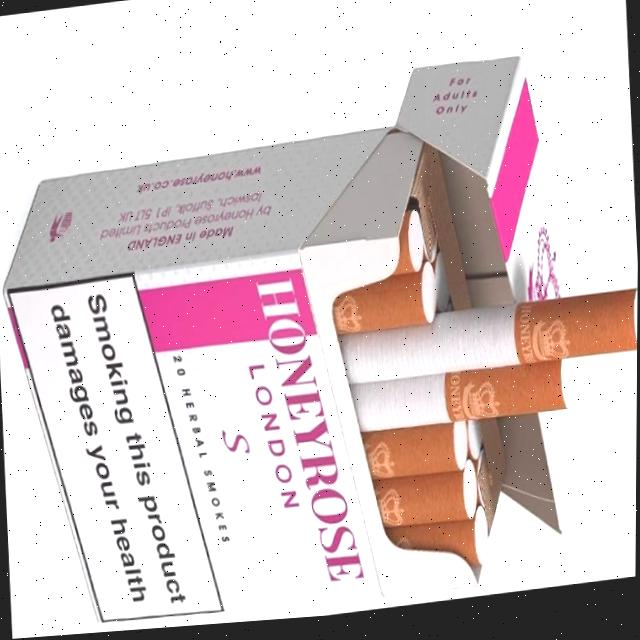cigarette: (337, 288, 638, 385), (348, 361, 571, 432), (331, 265, 436, 335), (372, 462, 477, 528), (384, 508, 488, 569), (361, 423, 466, 483)
